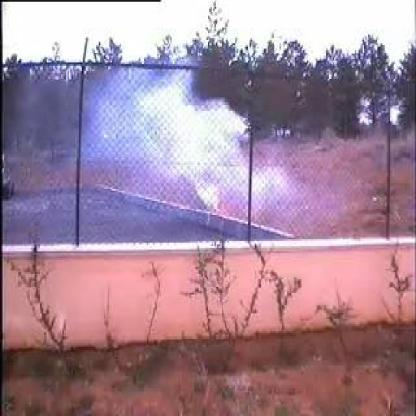-: (84, 52, 288, 218)
